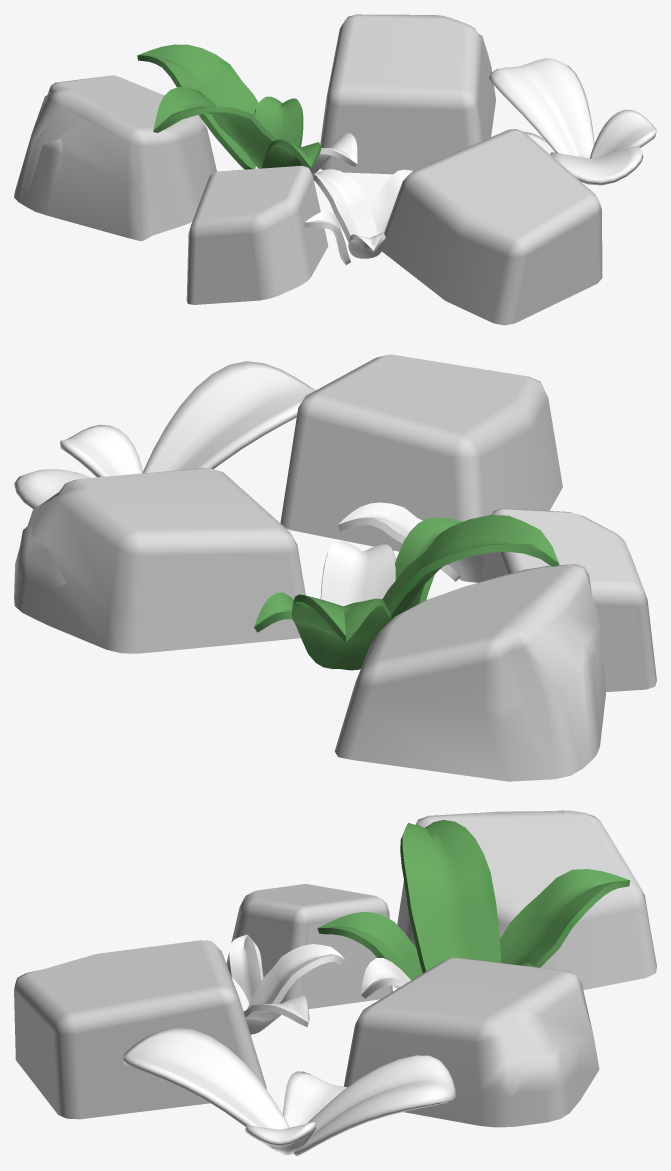
The model's file is Rocks obj.fbx.
The picture shows the model from 3 angles, top to bottom: view 1: azimuth 30°, elevation 25°; view 2: azimuth 150°, elevation 25°; view 3: azimuth 270°, elevation 25°; orthographic projection. The views are drawn at different scales.
Visible parts, largest first — view 1: Rock.031, Rock.032, Rock.029, Rock.030, Leaf.025, Leaf.010, Leaf.009, Leaf.041, Leaf.024, Leaf.026, Leaf.012, Leaf.011 (+4 smaller); view 2: Rock.032, Rock.029, Rock.031, Rock.030, Leaf.024, Leaf.009, Leaf.010, Leaf.013, Leaf.026, Leaf.042, Leaf.011, Leaf.025 (+2 smaller); view 3: Rock.029, Rock.031, Rock.032, Leaf.009, Rock.030, Leaf.024, Leaf.025, Leaf.010, Leaf.011, Leaf.041, Leaf.027, Leaf.043 (+3 smaller).
Part boxes in pixels (x1,y1,x2,y2): Rock.031: (381,129,602,325); Rock.032: (14,75,216,241); Rock.029: (320,14,495,174); Rock.030: (186,165,328,304); Leaf.025: (488,58,594,158); Leaf.010: (137,44,258,169); Leaf.009: (153,87,276,168); Leaf.041: (312,169,377,242); Leaf.024: (550,146,643,185); Leaf.026: (590,109,656,158); Leaf.012: (254,96,303,147); Leaf.011: (261,139,321,170); Rock.032: (334,564,605,781); Rock.029: (14,468,305,653); Rock.031: (280,354,562,551); Rock.030: (481,508,656,691); Leaf.024: (142,361,315,473); Leaf.009: (382,515,559,619); Leaf.010: (291,594,391,670); Leaf.013: (320,541,396,606); Leaf.026: (60,424,142,477); Leaf.042: (338,502,460,581); Leaf.011: (395,517,462,611); Leaf.025: (14,469,90,509); Rock.029: (344,958,599,1127); Rock.031: (14,940,266,1119); Rock.032: (397,810,656,989); Leaf.009: (400,820,501,972); Rock.030: (226,884,392,1008); Leaf.024: (123,1027,289,1129); Leaf.025: (294,1055,456,1156); Leaf.010: (500,869,630,967); Leaf.011: (317,912,422,980); Leaf.041: (247,944,344,1009); Leaf.027: (283,1071,347,1127); Leaf.043: (229,934,263,1003).
Bounding box in the file's own units: 158 × 43.41 × 148.
